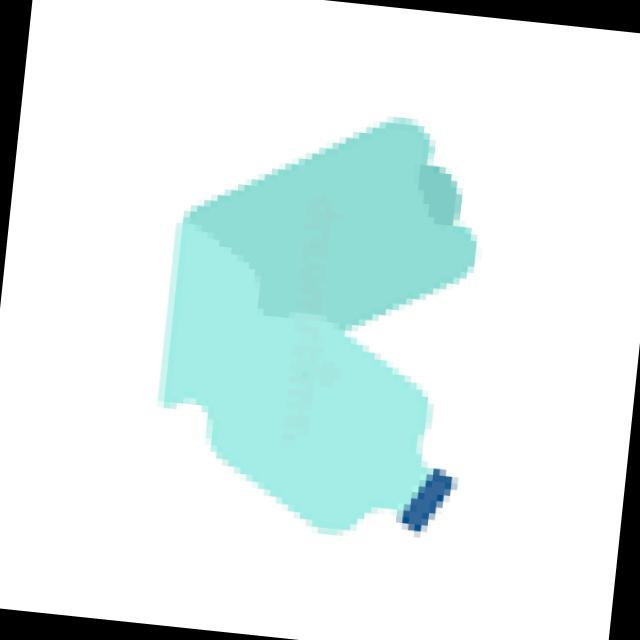defected: (114, 66, 524, 562)
